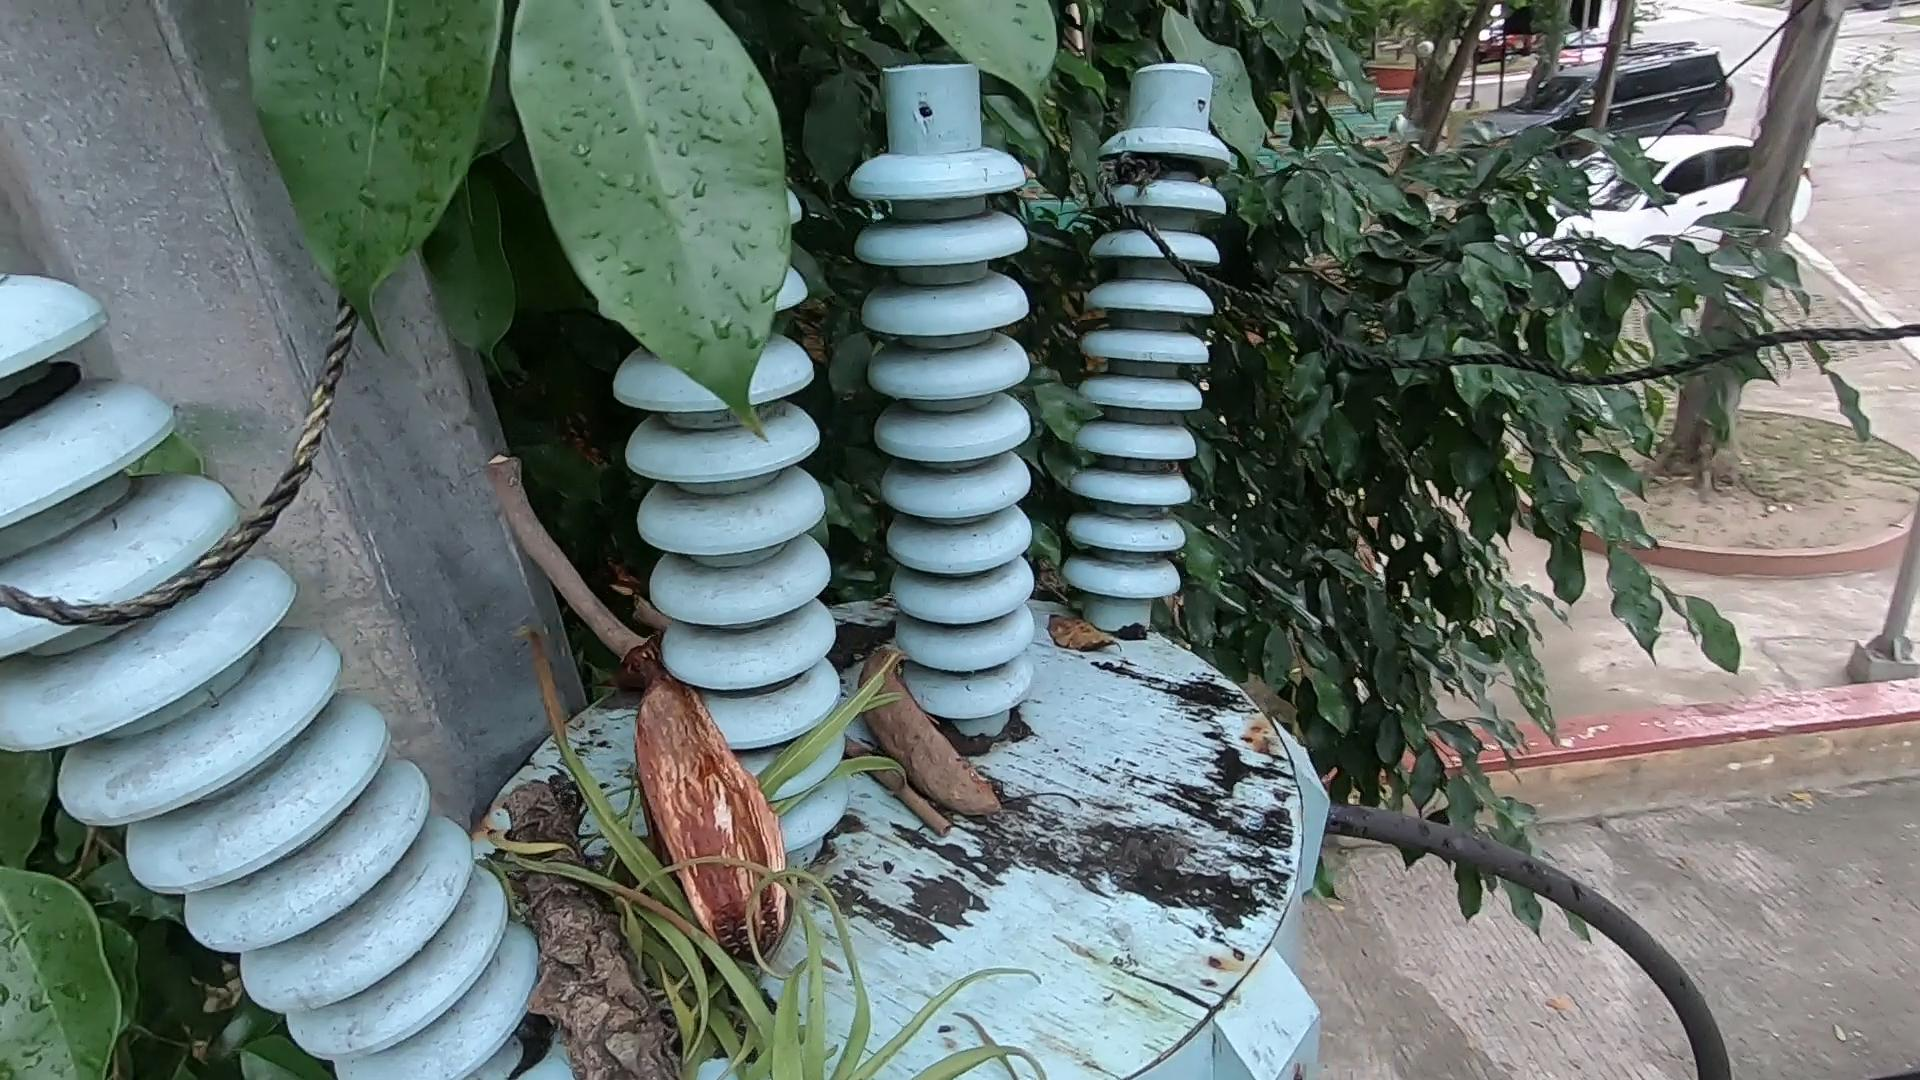branch with leaves: (508, 760, 957, 1080)
leaf: (1039, 596, 1133, 694)
mahogany fruit: (628, 659, 781, 969), (856, 647, 1001, 836)
tree branch: (611, 596, 953, 837), (485, 438, 670, 682)
